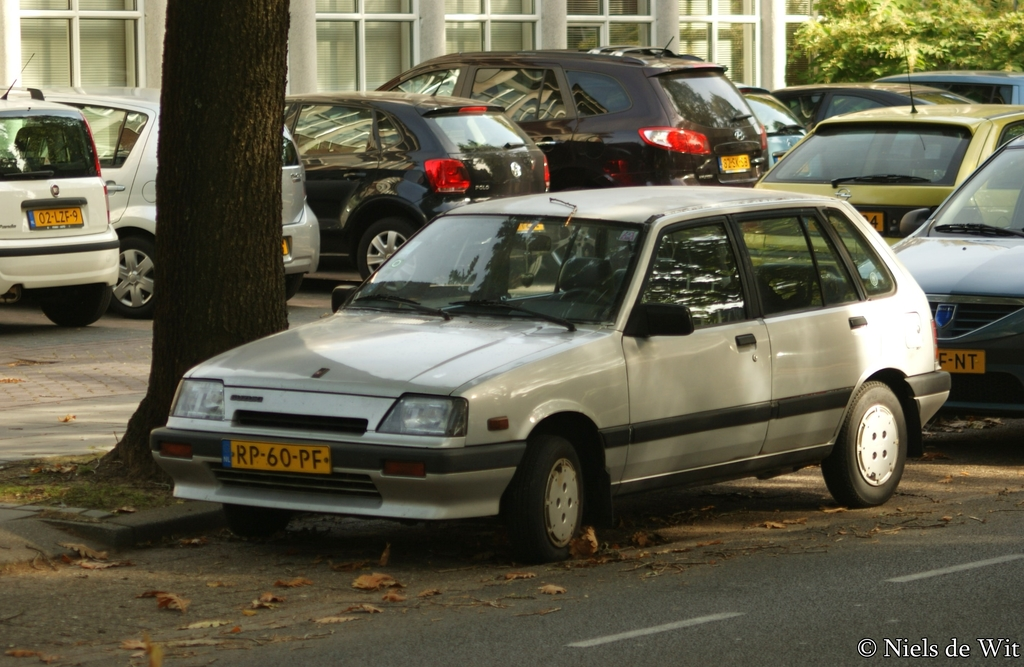car: (148, 182, 956, 561), (32, 85, 322, 317), (375, 45, 772, 189), (286, 90, 549, 281), (892, 136, 1024, 416), (753, 102, 1023, 238), (0, 89, 122, 327), (769, 83, 932, 128), (735, 85, 811, 167), (874, 69, 1024, 105)
